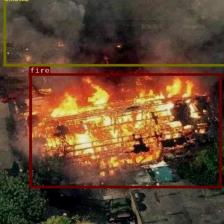fire: (28, 73, 222, 188)
smoke: (3, 0, 224, 65)
